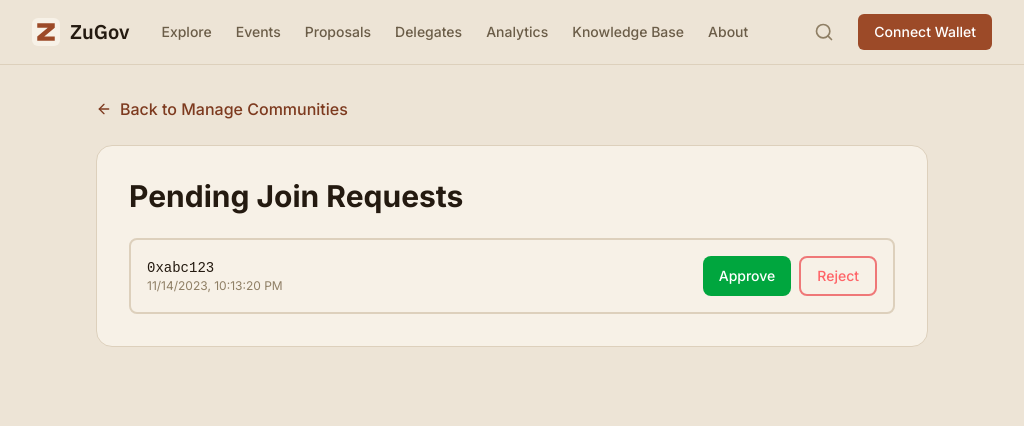
CommunityMembersPage › shows an error, signs out, and keeps the request in the list when rejecting fails with an expired session (401)
Click the button "Reject" at (838,276), box x1=799 y1=256 x2=877 y2=296
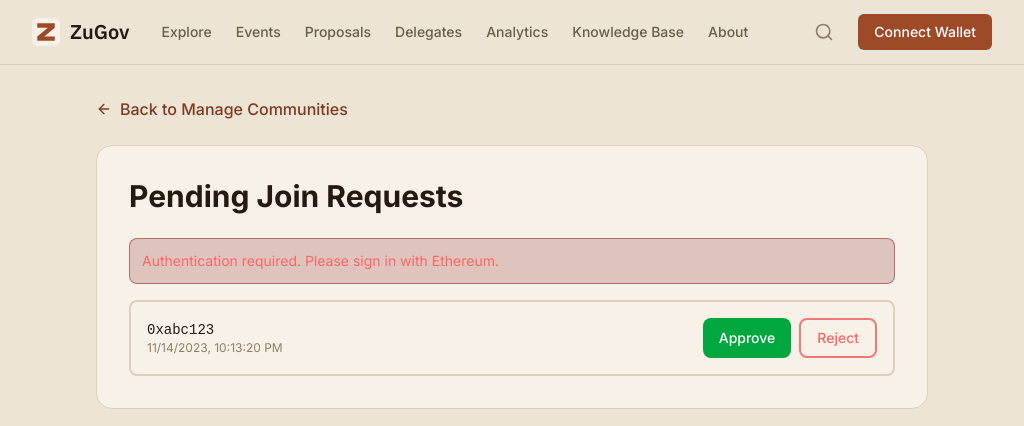
expect the text "0xabc123" is shown: met, box x1=147 y1=322 x2=214 y2=338
expect the text "Authentication required. Please sign in with Ethereum." is shown: met, box x1=129 y1=238 x2=895 y2=284
